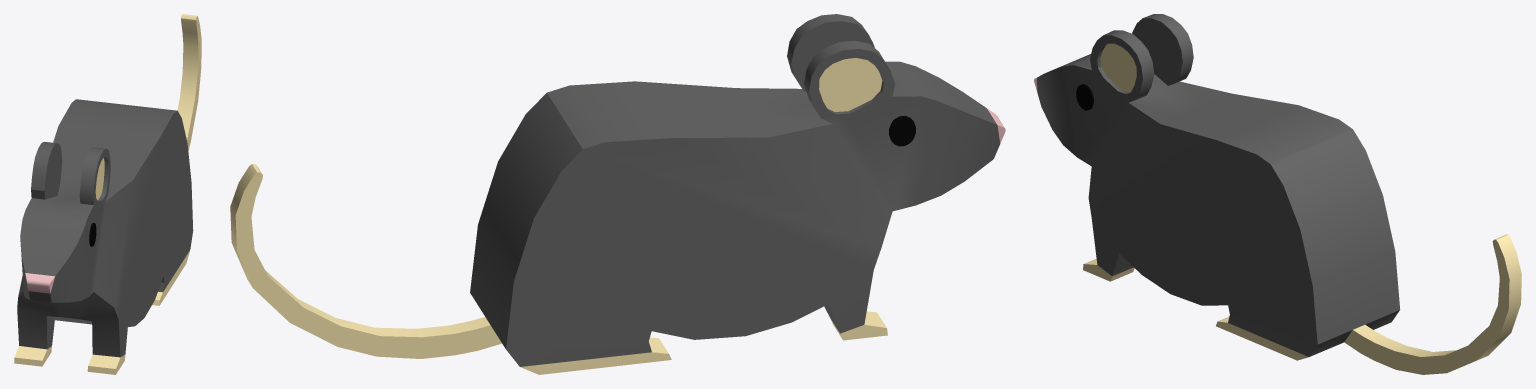
Rendered from rat.glb.
3 renders of one model, left to right at view 1: azimuth 30°, elevation 25°; view 2: azimuth 150°, elevation 25°; view 3: azimuth 270°, elevation 25°, orthographic. The views are drawn at different scales.
Visible parts, largest first — view 1: Plane.139; view 2: Plane.139, Circle.1916; view 3: Plane.139.
Part boxes in pixels (bbox=[...]): Plane.139: bbox=[14, 14, 201, 374]; Plane.139: bbox=[230, 14, 1005, 374]; Circle.1916: bbox=[889, 115, 915, 146]; Plane.139: bbox=[1034, 14, 1521, 374].
Bounding box in the file's own units: 2.4 × 1.27 × 2.4.
1 material, 1 textured.
